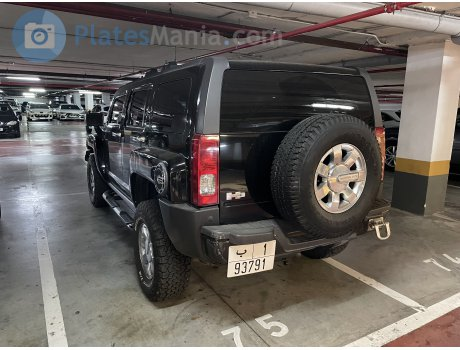number_plate: (223, 240, 276, 280)
